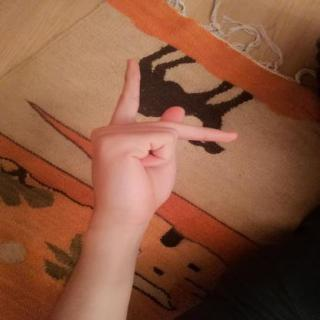DHAA: (80, 52, 252, 225)
